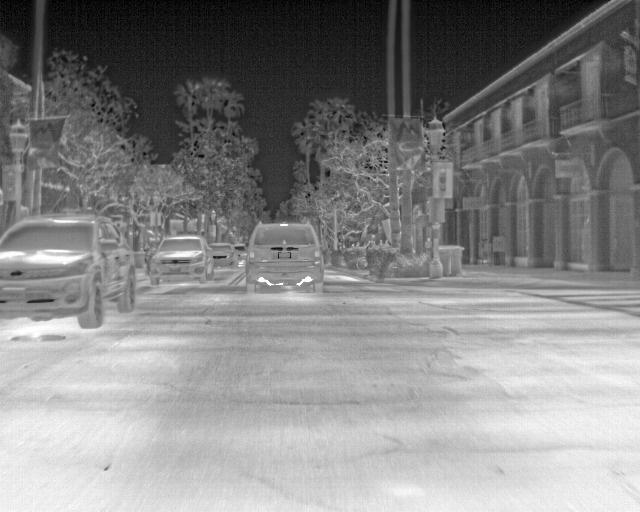bicycle: (0, 213, 139, 330), (243, 218, 325, 297), (152, 234, 214, 282), (208, 243, 239, 267)
